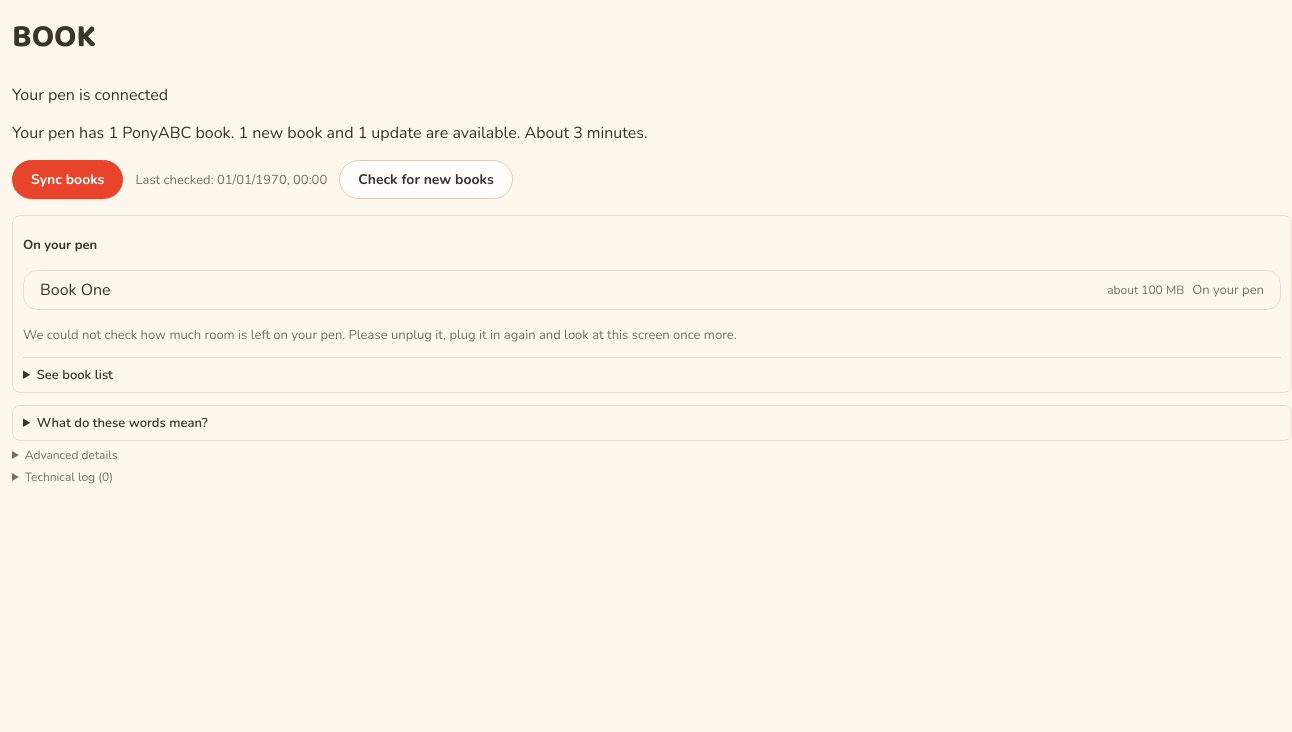
Test case: BookLibraryScreen — syncing › tells the parent to restart the pen once a book has been added
Expected: the text "Last checked: 01/01/1970, 00:00" is shown, left=135, top=171, right=327, bottom=189
Click the button "Sync books".
click(68, 180)  # box left=12, top=160, right=123, bottom=199
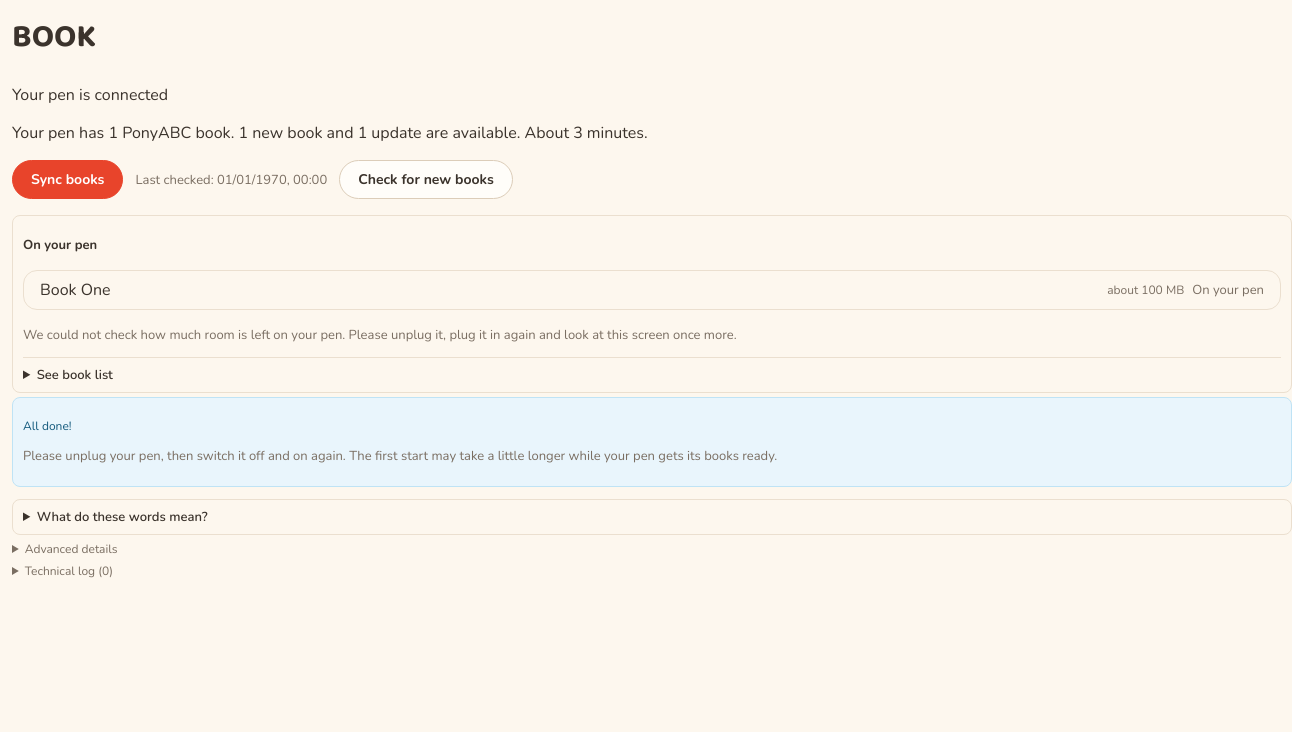
Result: the text "All done!" is shown at left=23, top=418, right=72, bottom=434
Result: the text "Please unplug your pen, then switch it off and on again" is shown at left=23, top=447, right=777, bottom=465
